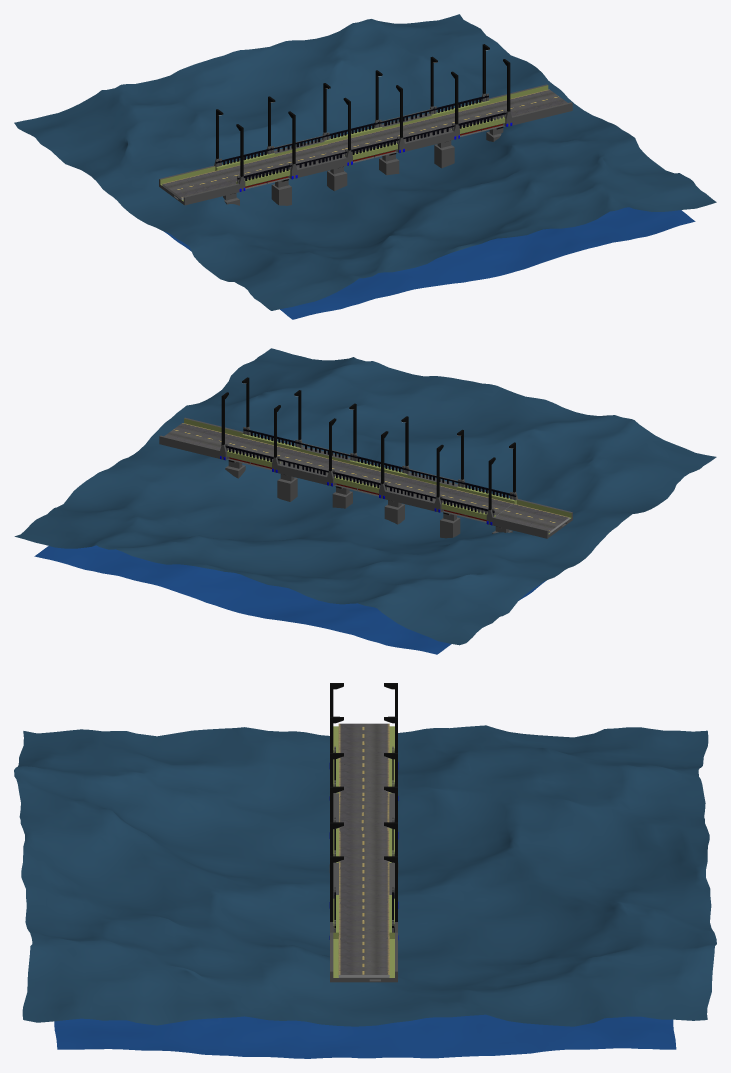
File: brije.obj
3 views of the same model, one above another, from view 1: azimuth 30°, elevation 25°; view 2: azimuth 150°, elevation 25°; view 3: azimuth 270°, elevation 25° (orthographic). The views are drawn at different scales.
Visible parts, largest first — view 1: Plane, Plane.001, Cube.000_Cube.010, Cube.003_Cube.004, Cube.006_Cube.008, Cube.008_Cube.000, Cube.009_Cube.001, Cube.004_Cube.005, Cube.001_Cube.015, Cube.005_Cube.017, Cube.002_Cube.016, Cube.007_Cube.009; view 2: Plane, Plane.001, Cube.000_Cube.010, Cube.003_Cube.004, Cube.006_Cube.008, Cube.008_Cube.000, Cube.009_Cube.001, Cube.004_Cube.005, Cube.001_Cube.015, Cube.002_Cube.016, Cube.005_Cube.017, Cube.007_Cube.009; view 3: Plane, Plane.001, Cube.000_Cube.010, Cube.009_Cube.001, Cube.005_Cube.017, Cube.008_Cube.000, Cube.001_Cube.015, Cube.004_Cube.005, Cube.002_Cube.016, Cube.003_Cube.004, Cube.007_Cube.009, Cube.006_Cube.008.
Part boxes in pixels (<box>): Plane: <box>14,14,716,310</box>; Plane.001: <box>163,207,695,319</box>; Cube.000_Cube.010: <box>380,44,572,168</box>; Cube.003_Cube.004: <box>159,96,347,205</box>; Cube.006_Cube.008: <box>321,70,404,191</box>; Cube.008_Cube.000: <box>162,170,236,199</box>; Cube.009_Cube.001: <box>494,89,567,116</box>; Cube.004_Cube.005: <box>219,156,286,182</box>; Cube.001_Cube.015: <box>328,130,396,155</box>; Cube.005_Cube.017: <box>438,103,504,126</box>; Cube.002_Cube.016: <box>384,117,451,140</box>; Cube.007_Cube.009: <box>275,143,343,168</box>; Plane: <box>14,348,716,645</box>; Plane.001: <box>34,545,546,654</box>; Cube.000_Cube.010: <box>159,377,350,501</box>; Cube.003_Cube.004: <box>385,429,572,538</box>; Cube.006_Cube.008: <box>327,403,410,524</box>; Cube.008_Cube.000: <box>496,503,569,533</box>; Cube.009_Cube.001: <box>164,423,237,449</box>; Cube.004_Cube.005: <box>443,490,512,516</box>; Cube.001_Cube.015: <box>335,463,403,488</box>; Cube.002_Cube.016: <box>280,450,347,473</box>; Cube.005_Cube.017: <box>228,436,293,460</box>; Cube.007_Cube.009: <box>388,477,456,502</box>; Plane: <box>14,725,716,1026</box>; Plane.001: <box>54,1014,676,1058</box>; Cube.000_Cube.010: <box>329,822,398,982</box>; Cube.009_Cube.001: <box>338,938,389,977</box>; Cube.005_Cube.017: <box>338,902,389,938</box>; Cube.008_Cube.000: <box>338,723,389,759</box>; Cube.001_Cube.015: <box>339,830,389,866</box>; Cube.004_Cube.005: <box>339,760,389,796</box>; Cube.002_Cube.016: <box>339,867,389,902</box>; Cube.003_Cube.004: <box>329,683,398,822</box>; Cube.007_Cube.009: <box>339,796,389,830</box>; Cube.006_Cube.008: <box>329,753,398,872</box>.
Size of the model in its own units: 29.88 by 7.01 by 30.2.
